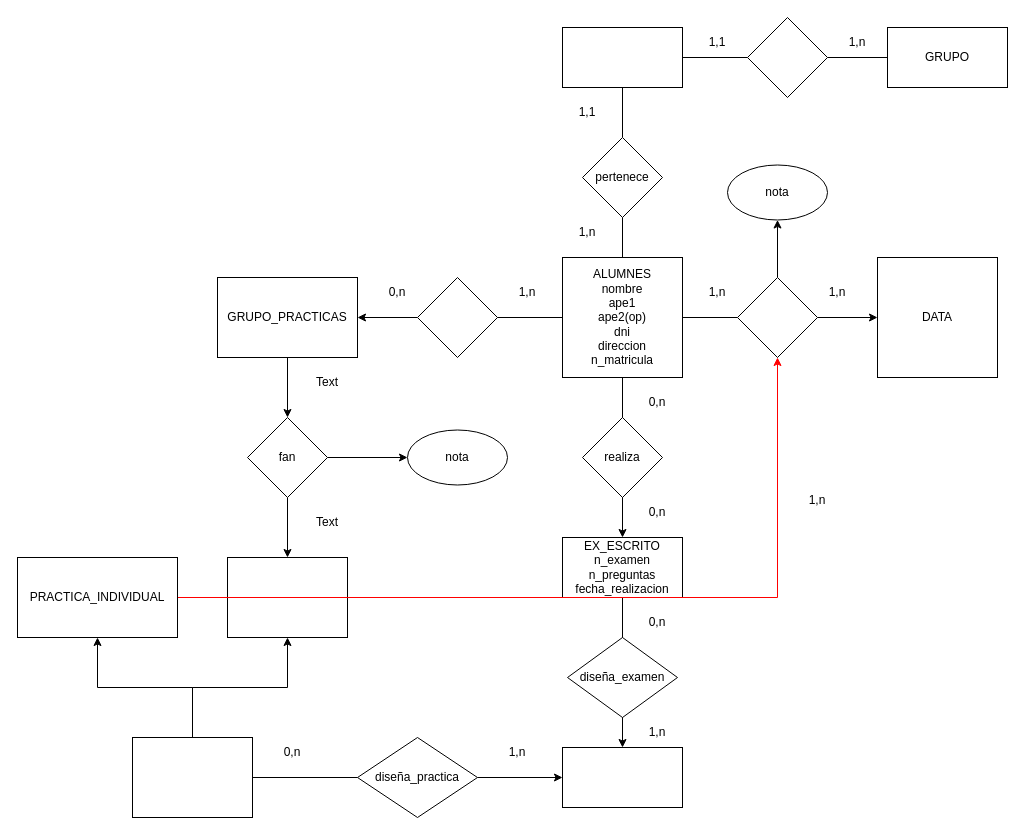
Image size: 1025x835. Some labels were removed from this diagram. The centre of each missing label's shape, as x and y in pixels:
"CURSO" goes at [622,57].
"fa" goes at [777,317].
"PRACTICA_GRUPO" goes at [287,597].
"PRACTICAS codigo titulo dificultad" goes at [192,777].
"PROFESOR" goes at [622,777].
"tiene" goes at [787,57].
